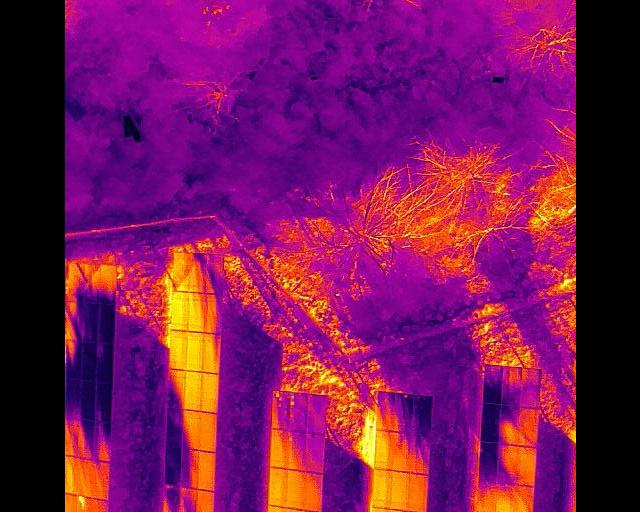Cell: (287, 430, 305, 471)
Cell-Multi: (287, 394, 307, 432), (271, 391, 288, 430)
No-Anomaly: (302, 472, 321, 512), (268, 428, 287, 468), (517, 446, 536, 486), (388, 471, 407, 510), (268, 467, 286, 508), (285, 470, 303, 510), (185, 293, 203, 333), (198, 450, 214, 493), (408, 474, 426, 512), (200, 371, 216, 413), (168, 330, 184, 370), (184, 332, 200, 372), (371, 471, 388, 508), (374, 430, 390, 469), (199, 412, 214, 453), (184, 370, 199, 411), (171, 292, 186, 332), (78, 458, 93, 497), (93, 461, 108, 500), (64, 457, 78, 495), (92, 500, 107, 512)
Shadowing: (495, 445, 517, 486), (499, 367, 521, 406), (411, 397, 432, 437), (498, 406, 519, 445), (480, 403, 499, 445), (392, 392, 411, 433), (478, 443, 497, 484), (407, 437, 428, 474), (376, 390, 395, 430), (306, 396, 326, 434), (520, 370, 540, 408), (180, 409, 198, 451), (180, 449, 198, 491), (519, 407, 538, 446), (94, 381, 112, 422), (304, 434, 323, 472), (482, 365, 501, 403), (203, 294, 221, 334), (201, 332, 218, 374), (389, 434, 408, 471), (204, 253, 221, 294), (96, 303, 113, 343), (165, 408, 181, 450), (187, 254, 204, 293), (93, 423, 110, 462), (80, 302, 96, 343), (168, 368, 184, 409), (96, 344, 113, 382), (83, 265, 99, 303), (164, 448, 180, 486), (64, 381, 79, 421), (79, 343, 95, 380), (66, 303, 80, 345), (172, 253, 187, 292), (79, 381, 93, 422), (475, 482, 494, 512), (68, 264, 82, 303), (99, 264, 113, 303), (512, 485, 532, 512), (79, 421, 93, 459), (64, 420, 78, 458), (494, 484, 512, 512), (66, 344, 79, 380), (161, 485, 177, 512), (177, 487, 194, 512), (195, 490, 211, 512)
Unclassified: (75, 496, 91, 512)
